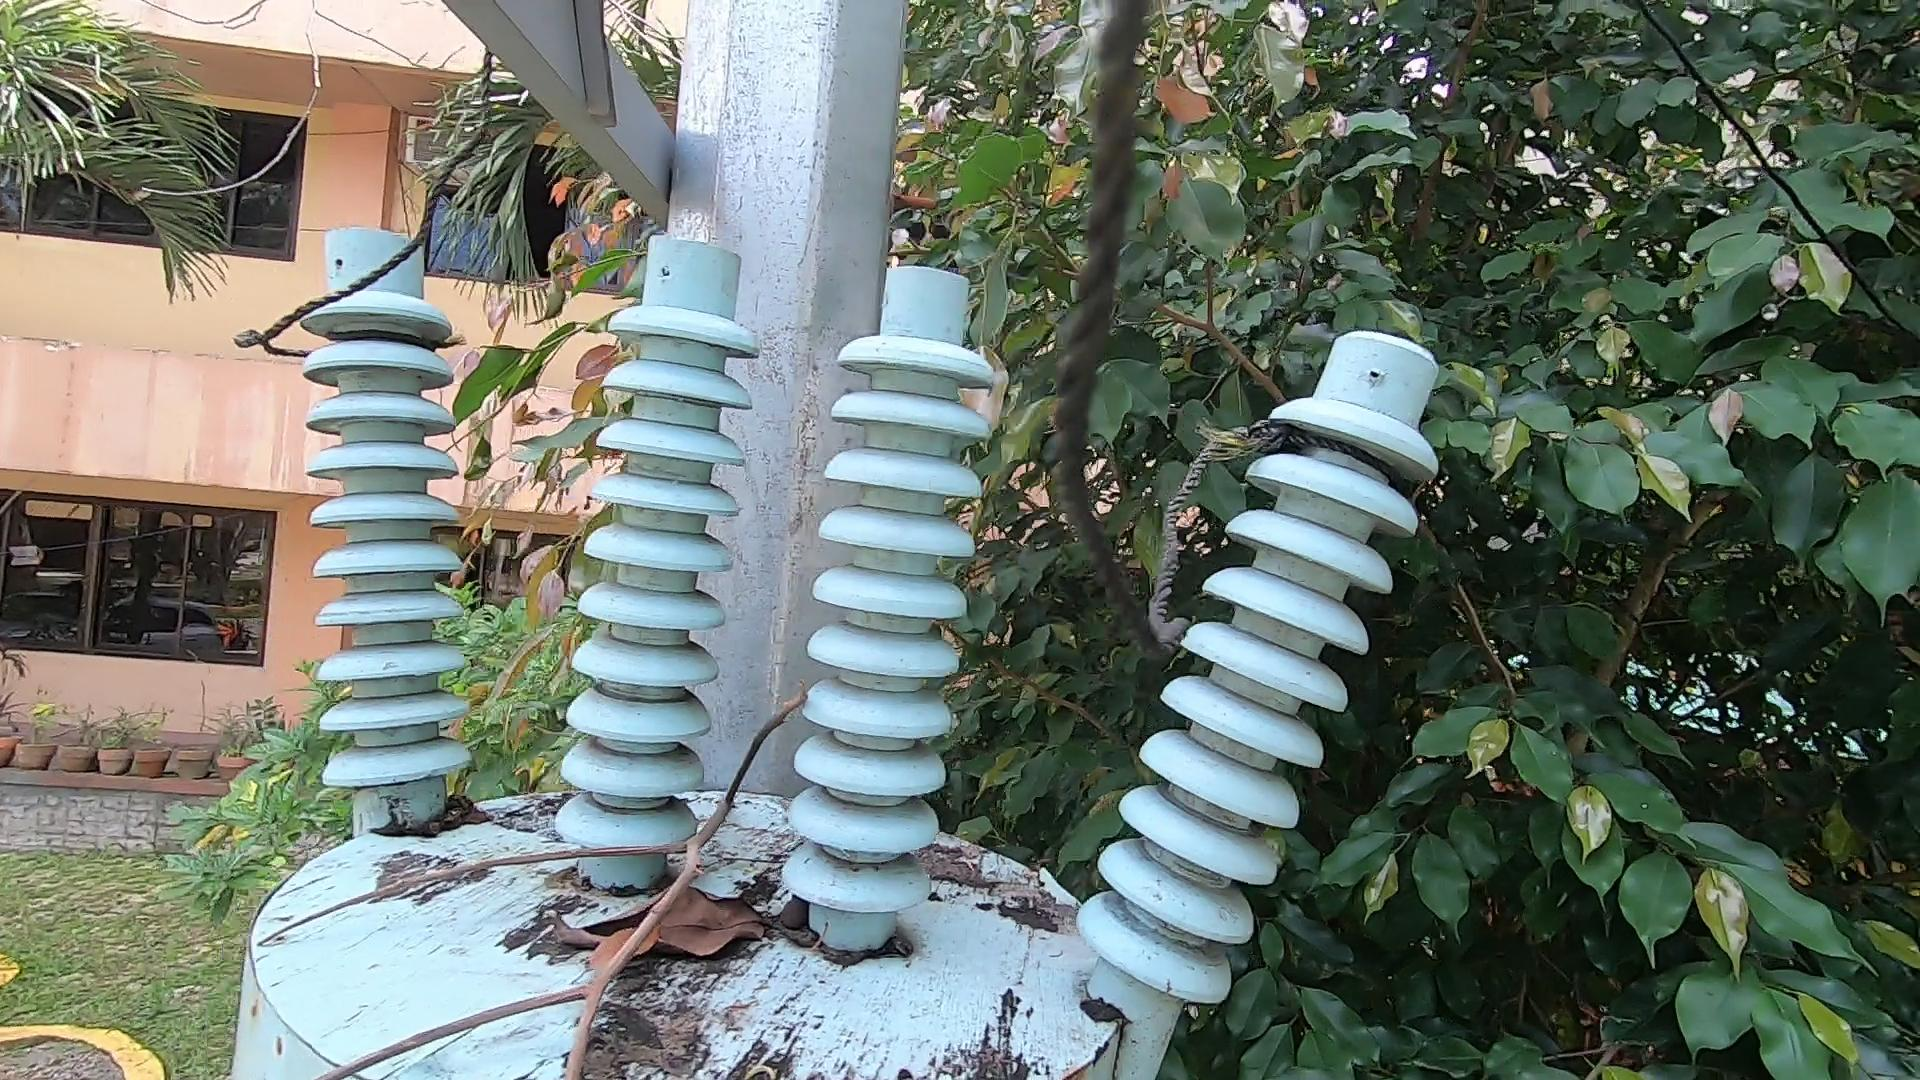leaf: (542, 882, 819, 964), (919, 828, 1069, 932), (369, 787, 520, 841)
tree branch: (224, 696, 855, 1080)
